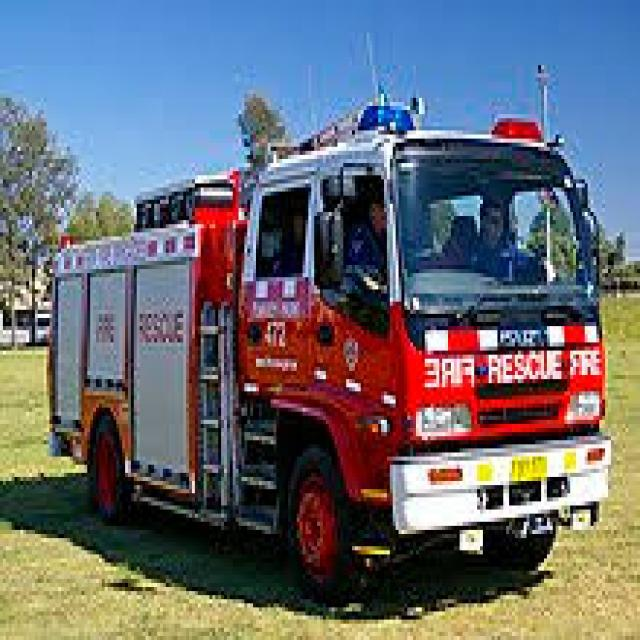Fire_brigade: (44, 94, 611, 640)
